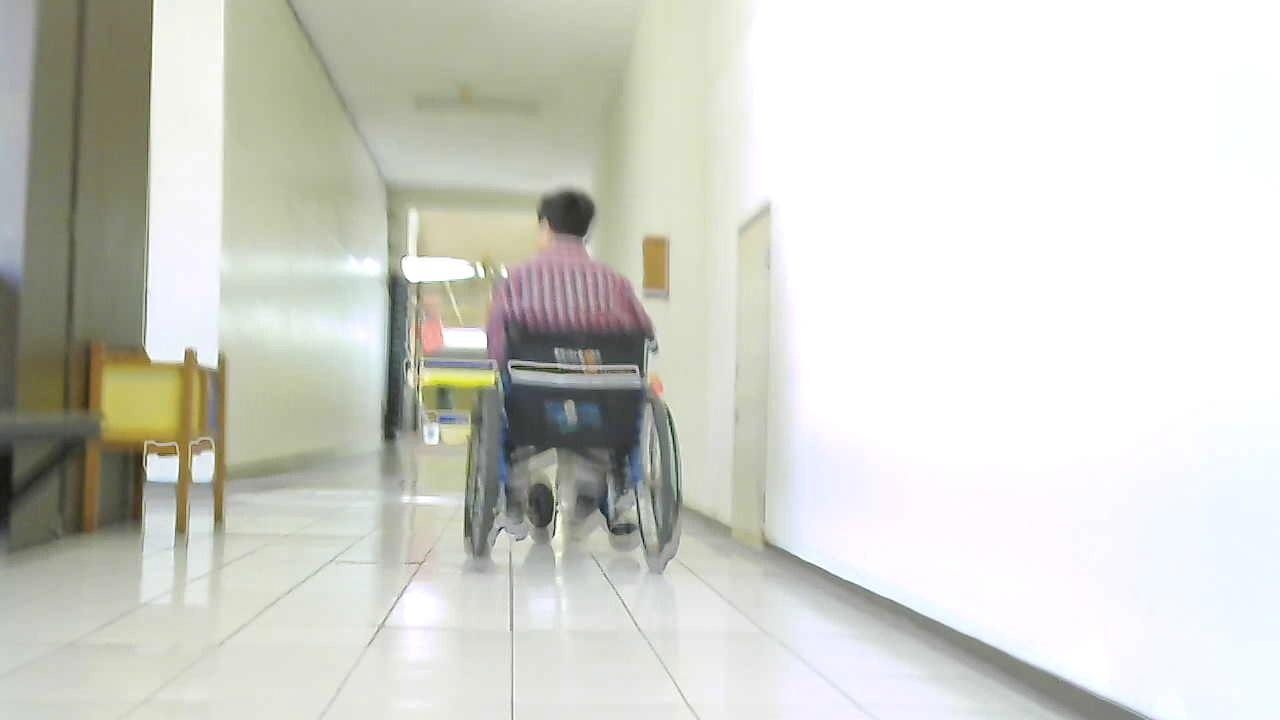person: (483, 184, 661, 556)
wheelchair: (461, 316, 700, 591)
